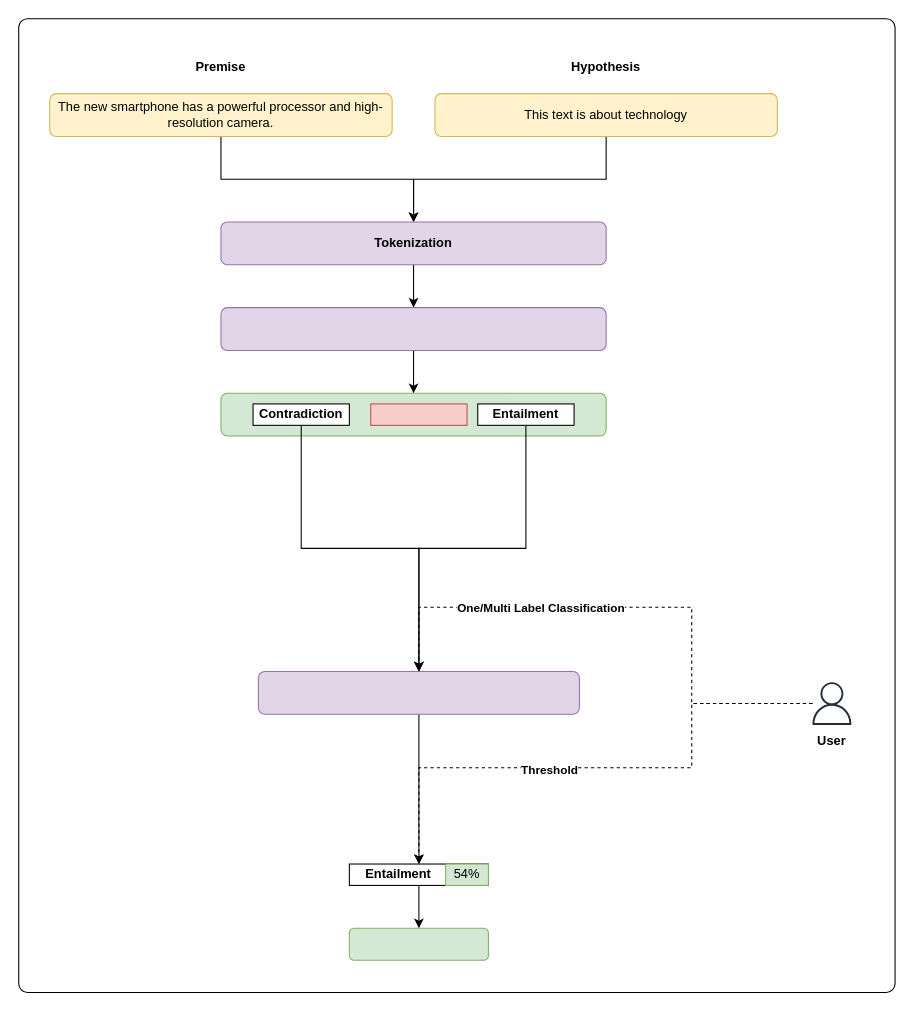
Image size: 914x1011. Some labels were removed from this diagram. The box of each missing label's shape, as (x1, y1, x2, y2) in pixels:
Neutral: (370, 403, 467, 425)
NLI Model Logits: (220, 307, 606, 350)
Softmax Function: (257, 670, 579, 714)
Technology: (348, 927, 488, 960)
